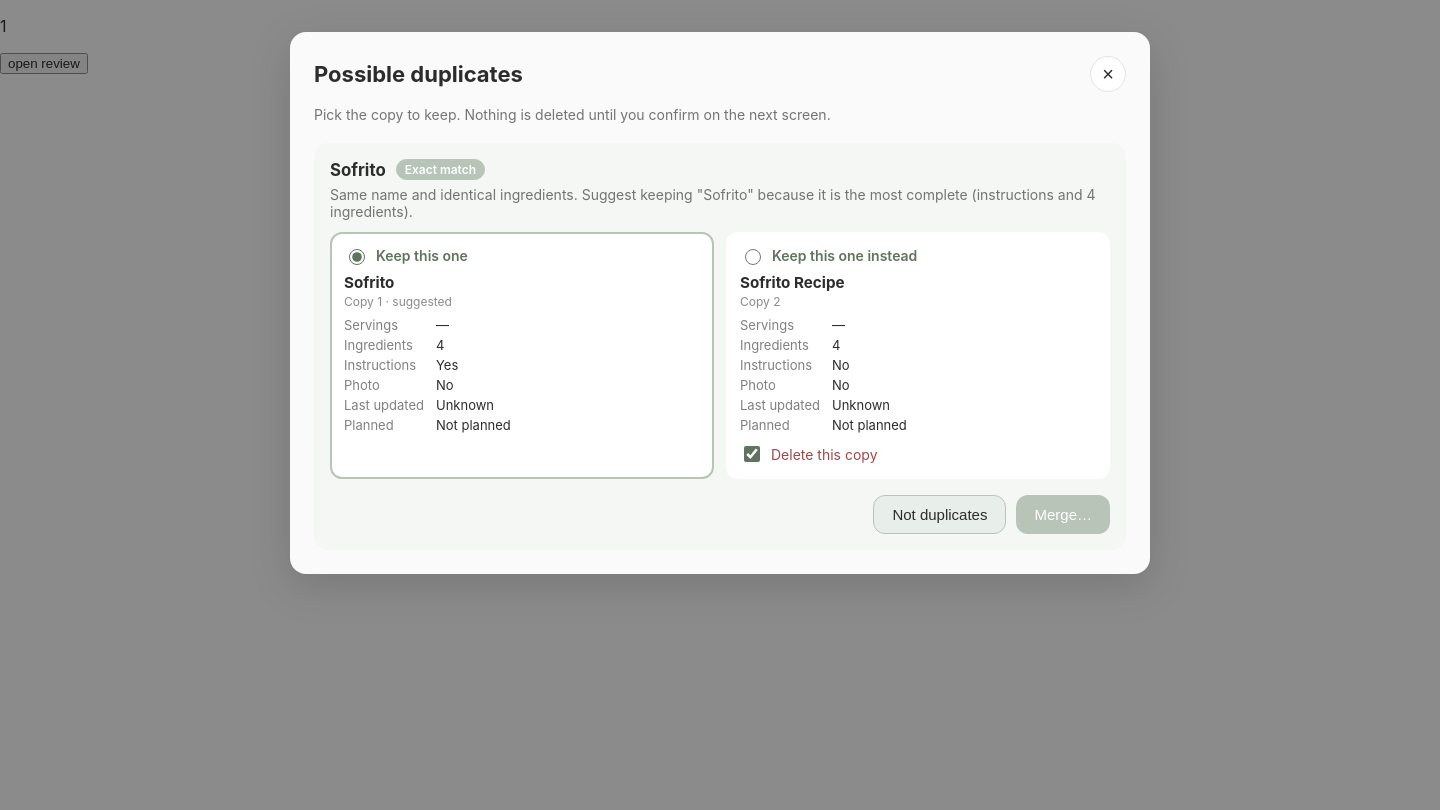
it: broken localStorage does not break dismissing
The image size is (1440, 810).
Click the button "Not duplicates": (940, 515) [873,495,1006,534]
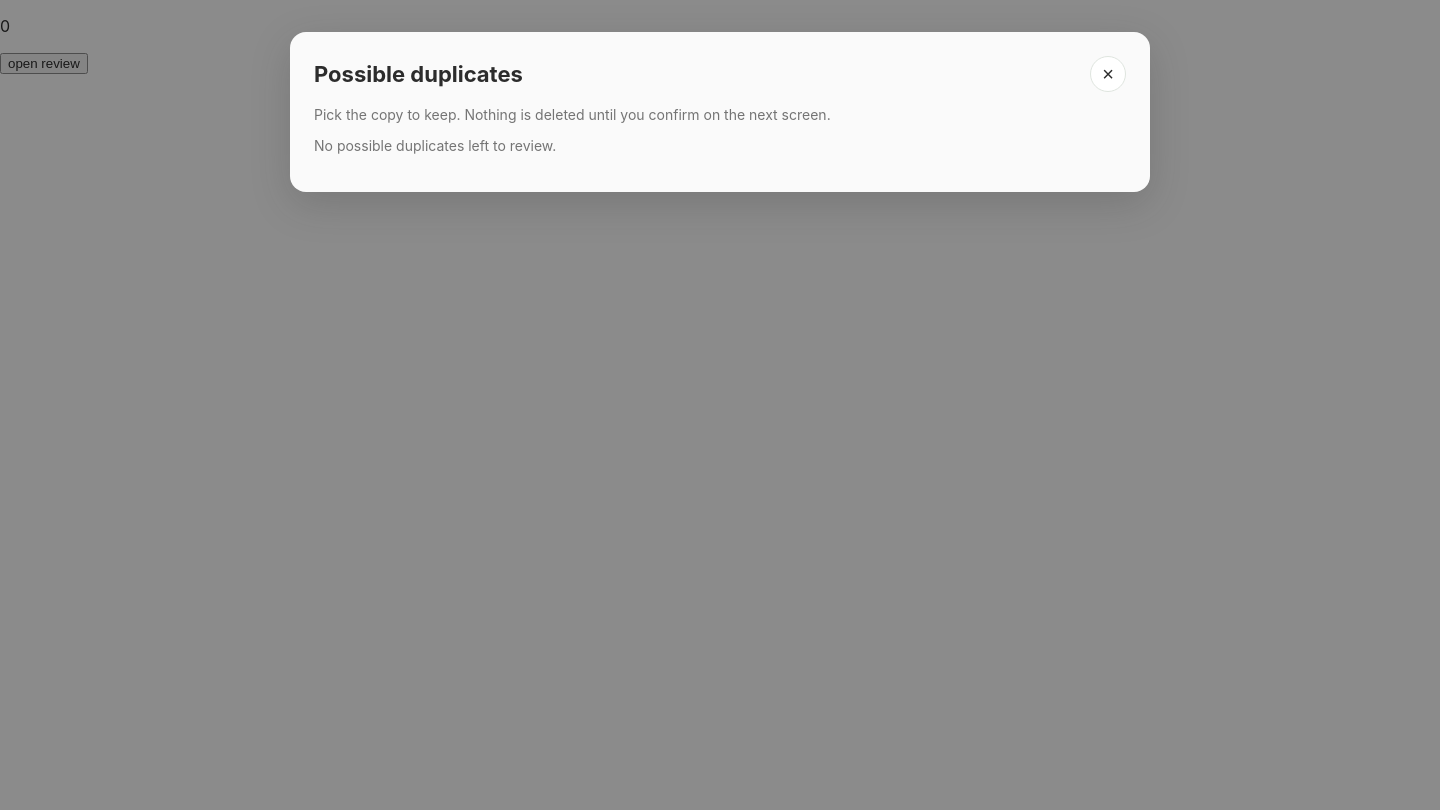
Now the text with test id "count" reads "0", box [0,16,10,36]
